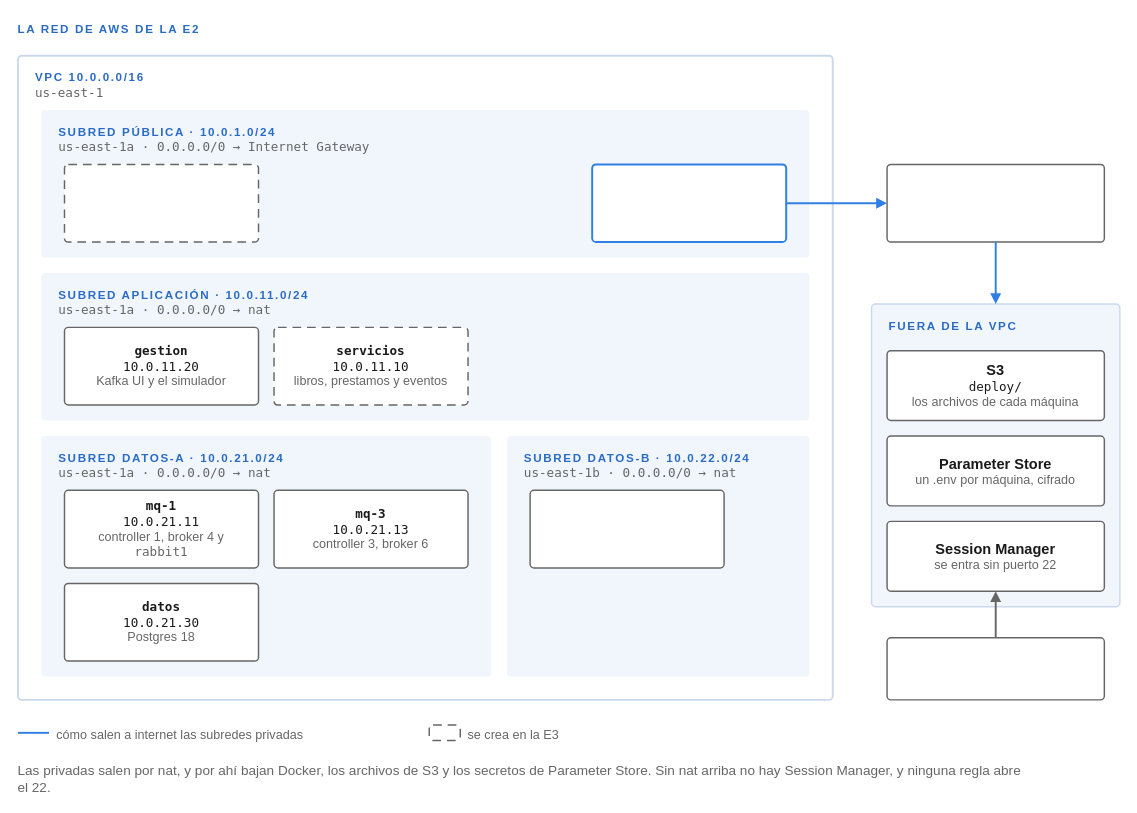
This 1137x813 diagram has some shape labels left out. Each missing label, with the centre of its shape:
"gw-aws 10.0.1.20 Caddy y el gateway" goes at (161,202).
"Internet Gateway la única puerta de la VPC" goes at (995,202).
"mq-2 10.0.22.12 controller 2, broker 5 y rabbit2" goes at (626,528).
"nat 10.0.1.10 salida de las privadas" goes at (689,202).
"Tu equipo aws ssm start-session" goes at (995,668).
